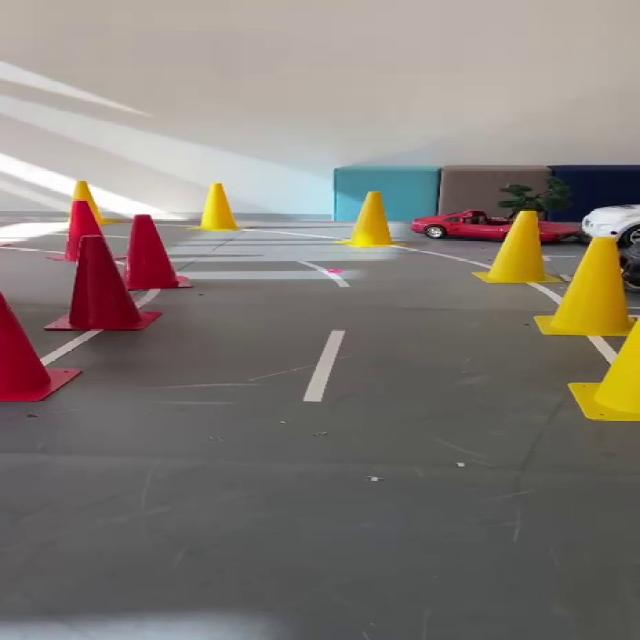Cone-red: (46, 235, 157, 329), (0, 292, 80, 402), (123, 215, 190, 290), (63, 181, 103, 261)
Cones-yellow: (535, 236, 630, 337), (568, 319, 639, 421), (476, 210, 561, 284), (339, 192, 393, 248), (197, 183, 237, 231), (72, 181, 105, 225)
